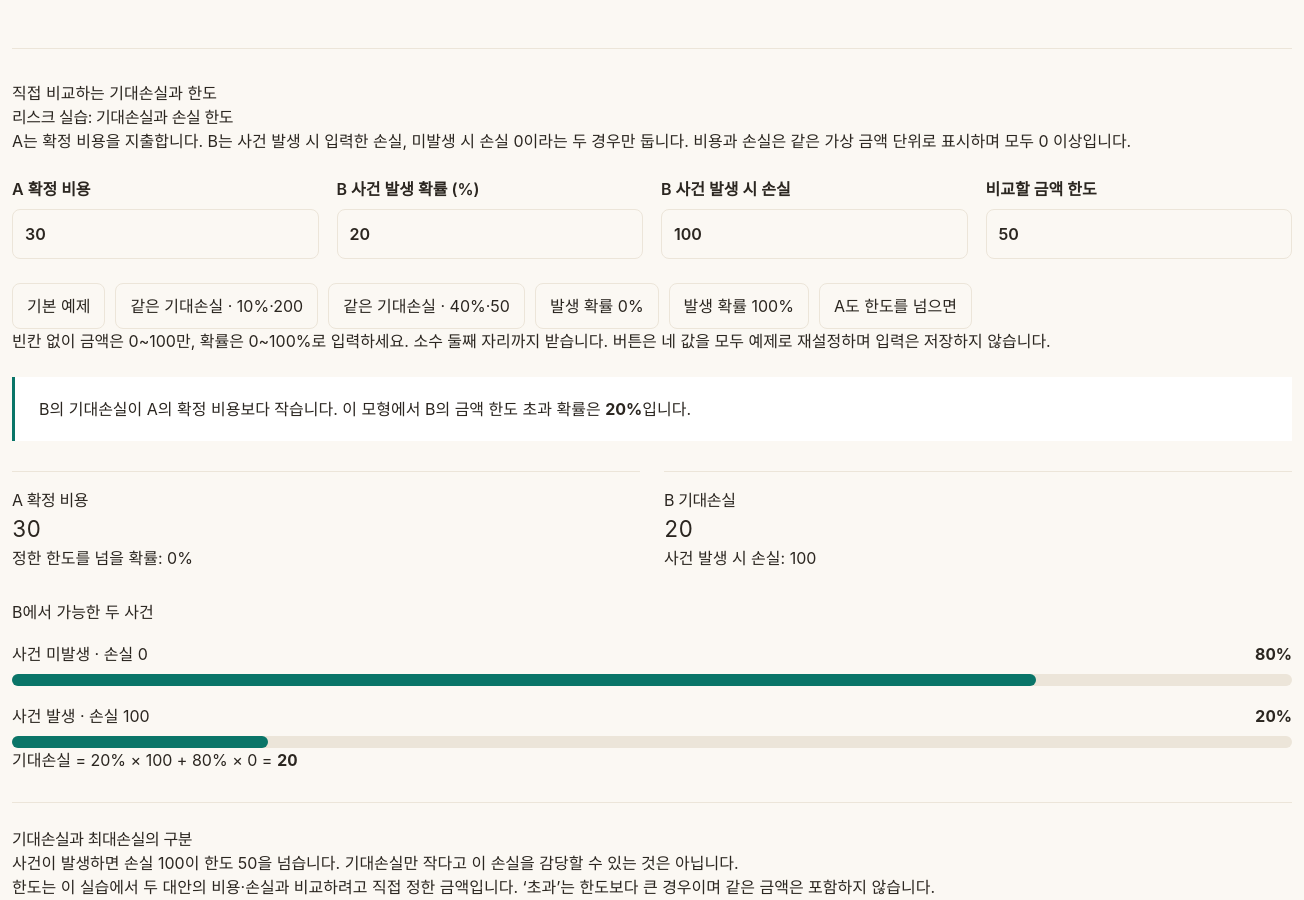
Test: removes current outputs on invalid input while retaining the clearly fixed comparison examples
Replace the text in the number field labelled "B 사건 발생 확률 (%)" with "100.01": (490, 234) [336, 209, 643, 259]
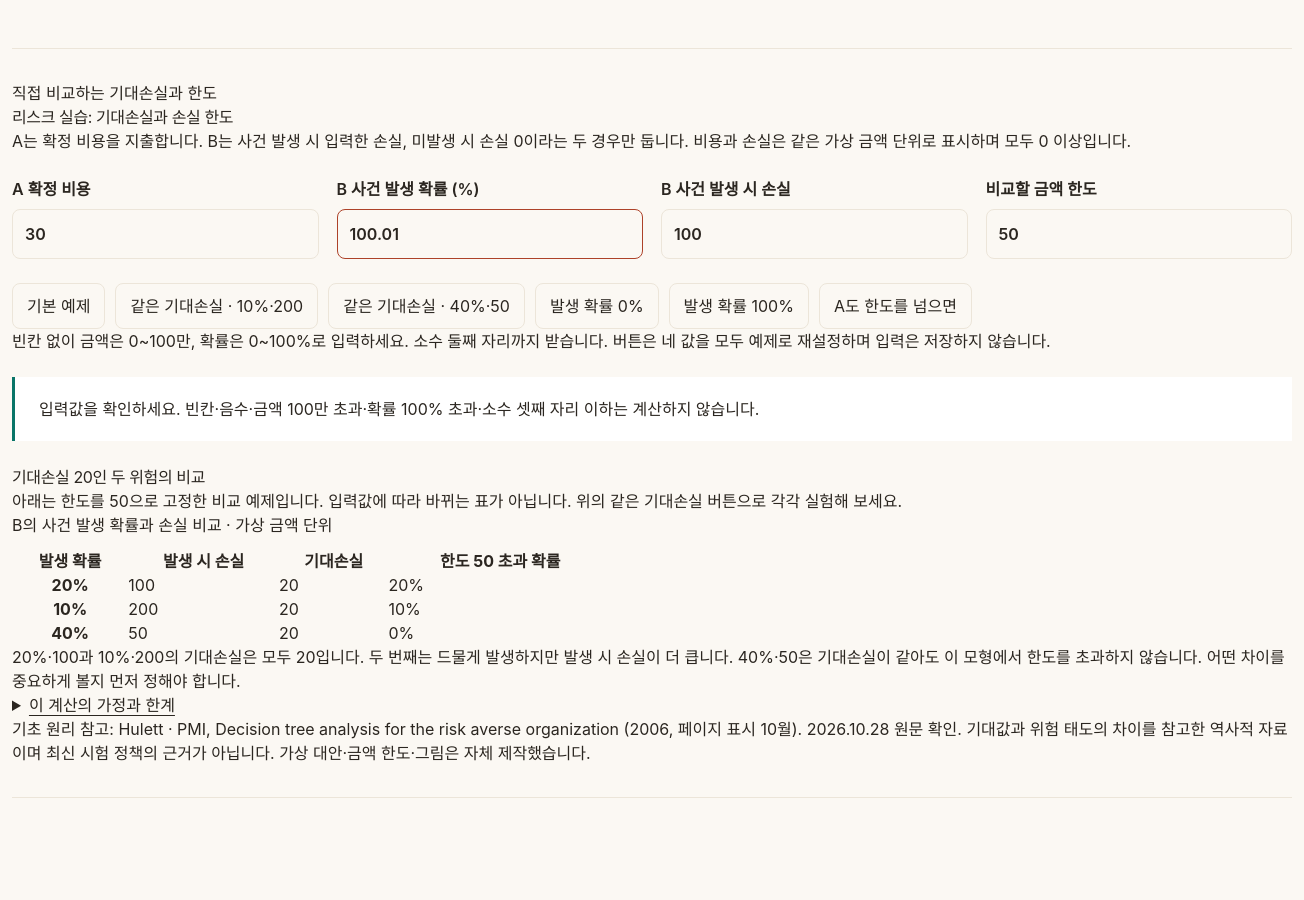
expect the table is shown: met, box [12, 513, 612, 645]
expect the message shows "입력값을 확인하세요": met, box [39, 399, 759, 419]
Click the button "기본 예제": (59, 306) [12, 283, 105, 329]
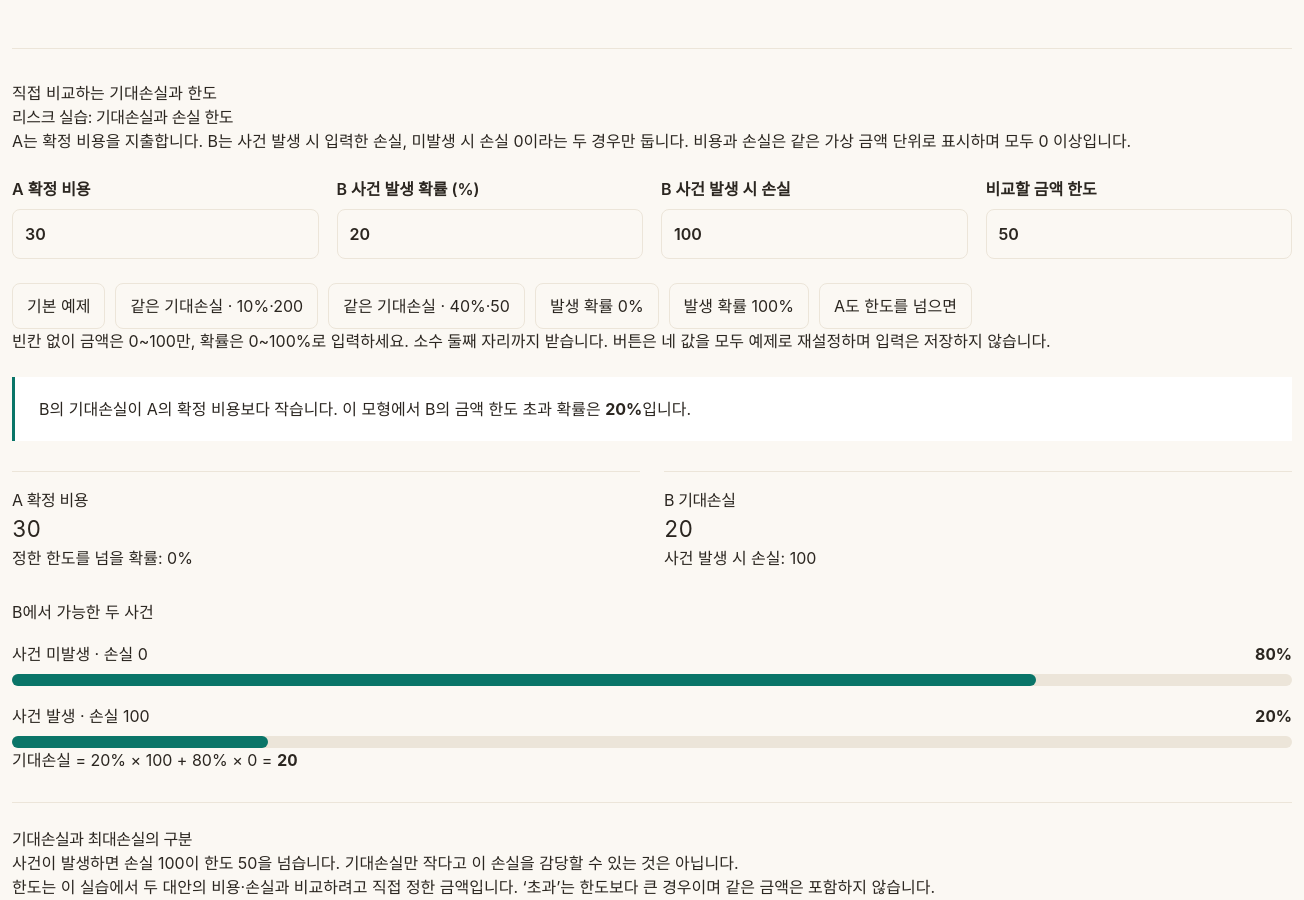
expect the element that starts with "B에서 가능한 두 사건" is shown: met, box [12, 600, 1292, 772]
expect the message shows "20%": met, box [12, 377, 1292, 441]
